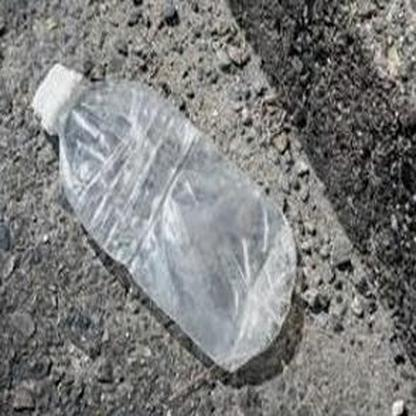plastic bottle: (33, 63, 298, 375)
